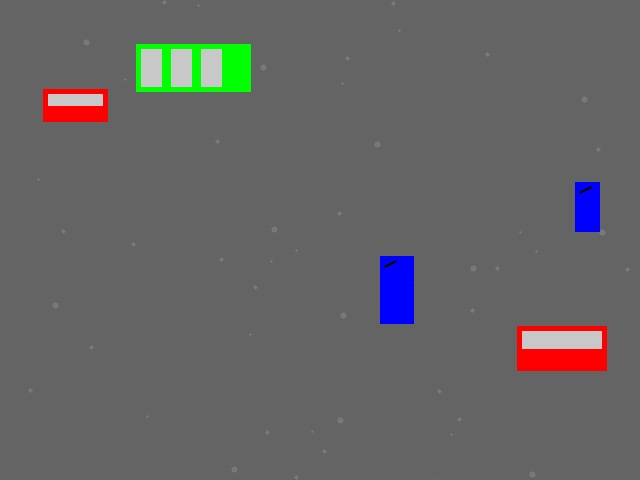bus: (136, 44, 250, 91)
car: (517, 326, 606, 370), (43, 89, 107, 121)
motorcycle: (380, 256, 413, 323), (575, 182, 599, 231)
